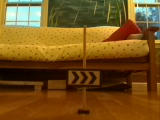right: (67, 69, 102, 86)
